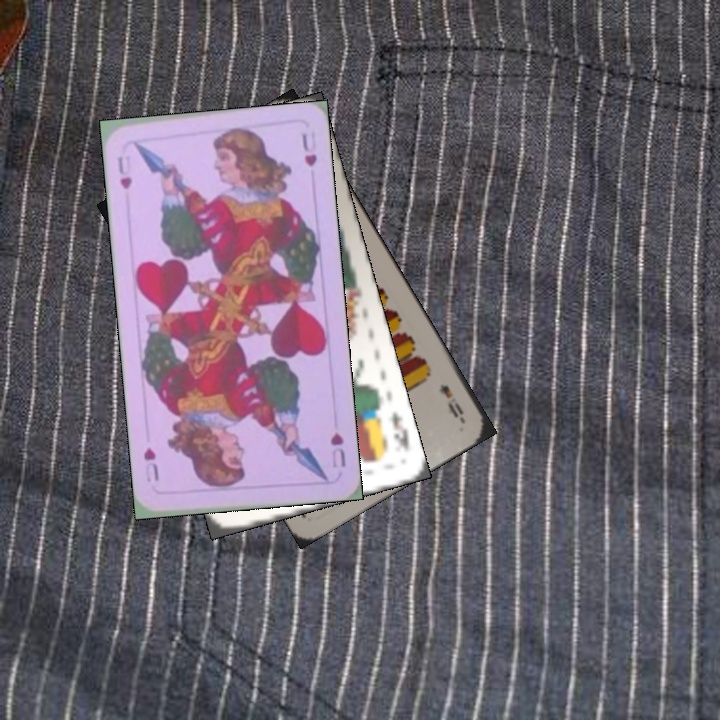E9: (435, 380, 467, 423)
EK: (387, 408, 411, 455)
HU: (326, 428, 348, 470), (114, 151, 135, 192)
